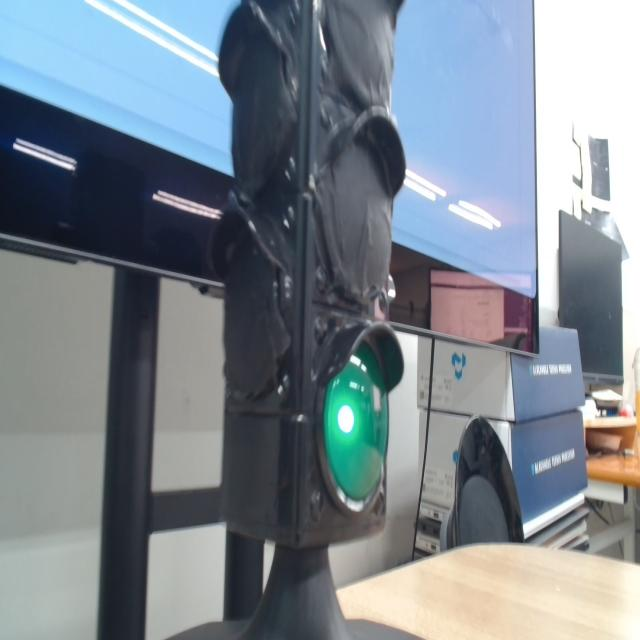green_light: (324, 344, 387, 501)
